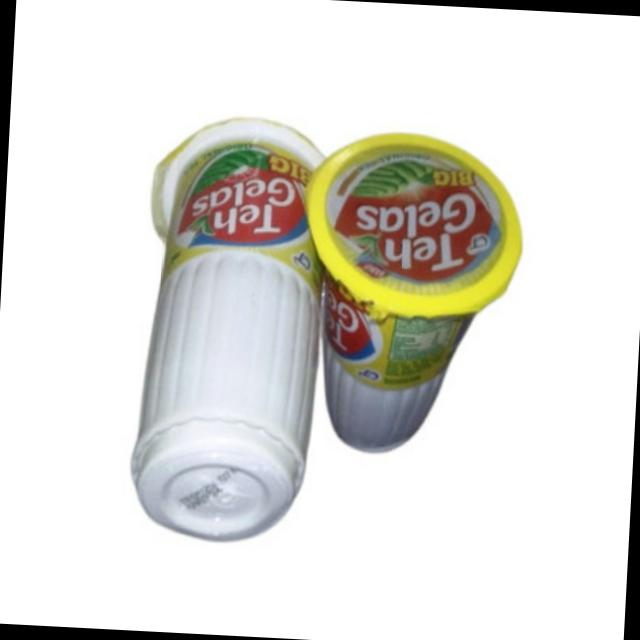GelasPlastik: (127, 114, 334, 550), (293, 128, 529, 464)
